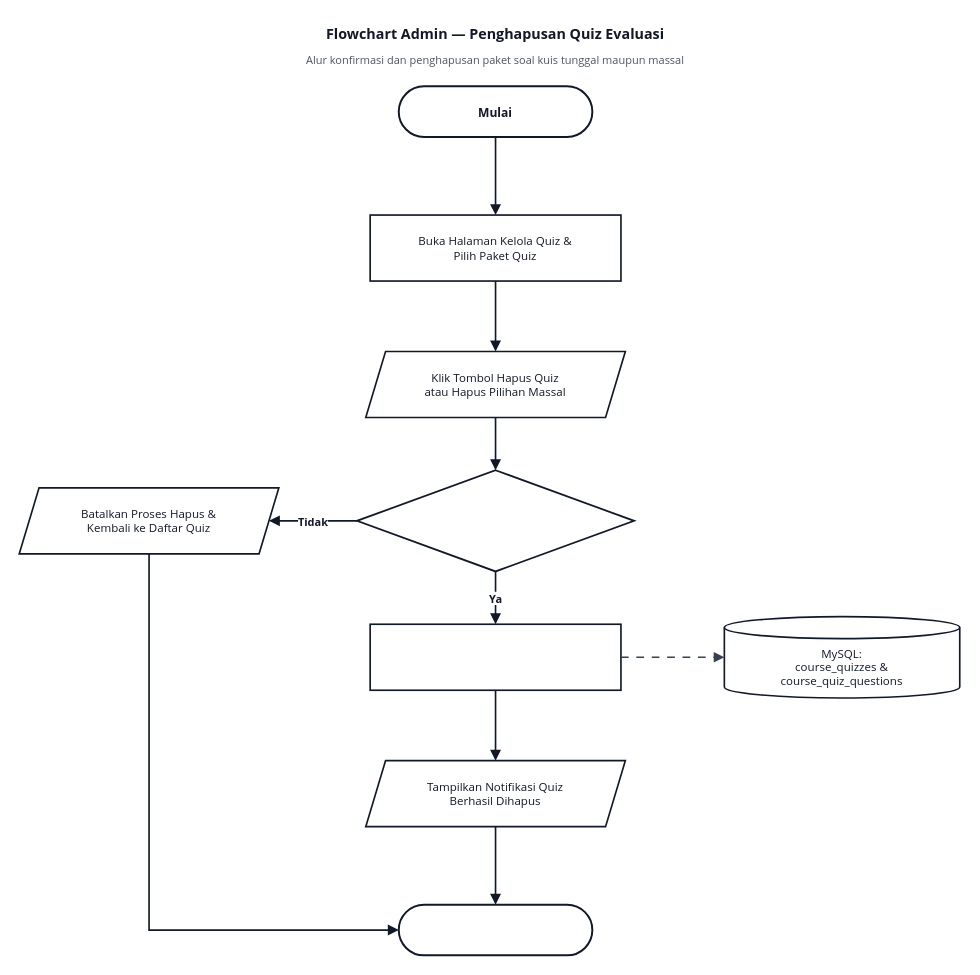
The diagram is 980 pixels wide and 975 high, and some of its shapes have lost their labels. Here are the shapes that lost their labels. From the top down, the centre of each, then its label:
At point (495, 520): "Konfirmasi Hapus Quiz Disetujui?".
At point (495, 657): "Hapus Paket Quiz Beserta Daftar Pertanyaan Terkait".
At point (495, 929): "Selesai".
